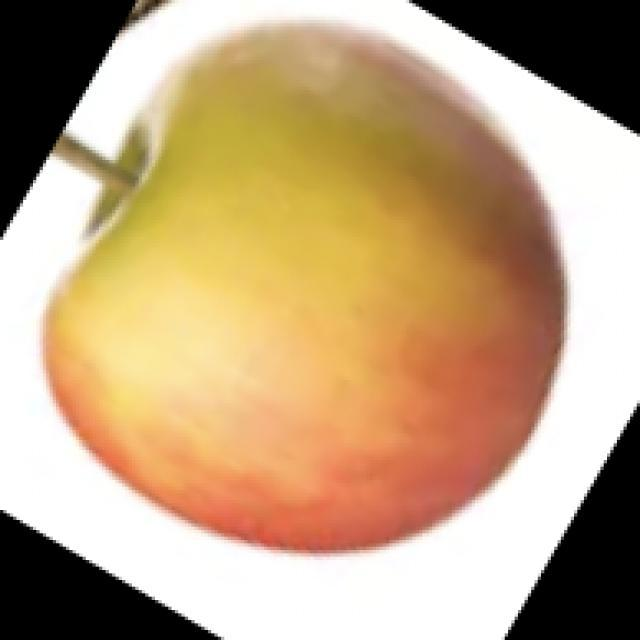Fresh Apple: (37, 11, 572, 551)
